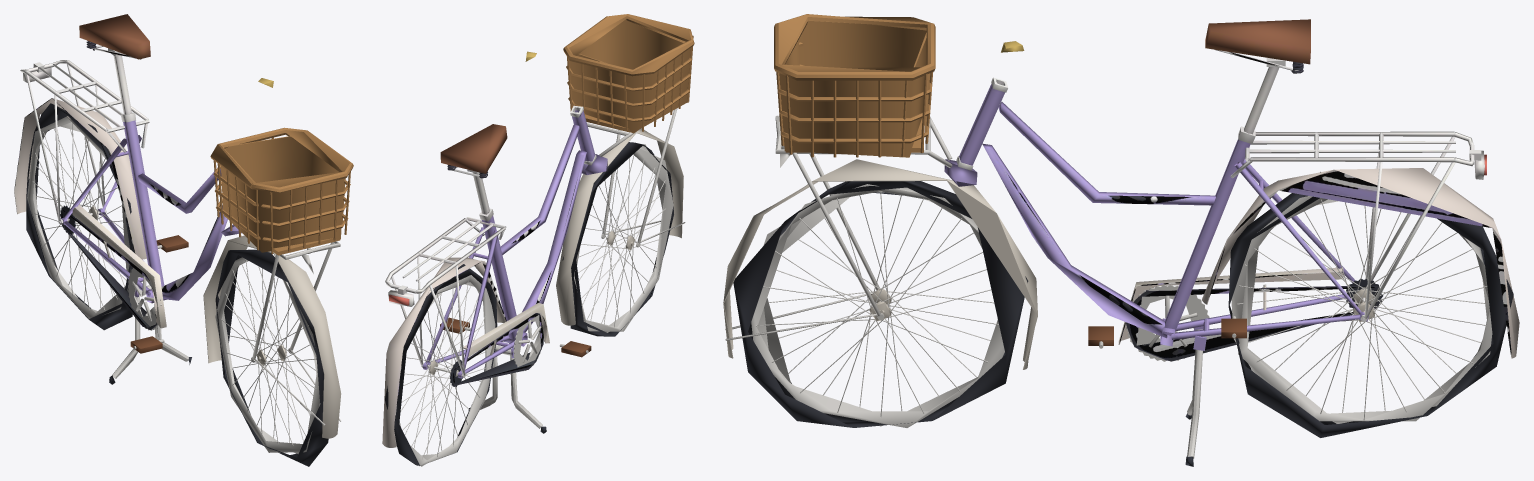
File: n_bici.glb
3 views of the same model, side by side, from view 1: azimuth 30°, elevation 25°; view 2: azimuth 150°, elevation 25°; view 3: azimuth 270°, elevation 25° (orthographic). The views are drawn at different scales.
Parts seen in each view (by area): view 1: bicycle_steering, bicycle_body, bicycle_wheel_front, bicycle_wheel_rear, bicycle_crank, bicycle_kickstand; view 2: bicycle_body, bicycle_steering, bicycle_wheel_front, bicycle_wheel_rear, bicycle_crank, bicycle_kickstand; view 3: bicycle_body, bicycle_steering, bicycle_wheel_front, bicycle_wheel_rear, bicycle_crank, bicycle_kickstand.
Boxes of the visible parts, x1=… form: bicycle_steering: x1=203, y1=78, x2=353, y2=438; bicycle_body: x1=14, y1=14, x2=227, y2=329; bicycle_wheel_front: x1=215, y1=249, x2=328, y2=466; bicycle_wheel_rear: x1=26, y1=103, x2=134, y2=330; bicycle_crank: x1=128, y1=235, x2=188, y2=353; bicycle_kickstand: x1=109, y1=285, x2=191, y2=384; bicycle_body: x1=382, y1=105, x2=596, y2=447; bicycle_steering: x1=525, y1=14, x2=694, y2=325; bicycle_wheel_front: x1=562, y1=142, x2=673, y2=336; bicycle_wheel_rear: x1=385, y1=264, x2=497, y2=466; bicycle_crank: x1=440, y1=313, x2=591, y2=371; bicycle_kickstand: x1=468, y1=345, x2=546, y2=433; bicycle_body: x1=956, y1=19, x2=1519, y2=361; bicycle_steering: x1=723, y1=14, x2=1037, y2=369; bicycle_wheel_front: x1=733, y1=181, x2=1028, y2=427; bicycle_wheel_rear: x1=1228, y1=172, x2=1513, y2=437; bicycle_crank: x1=1088, y1=284, x2=1246, y2=361; bicycle_kickstand: x1=1185, y1=329, x2=1204, y2=466.
Bounding box in the file's own units: 0.35 × 1.09 × 1.85.
2 materials, 1 textured.
